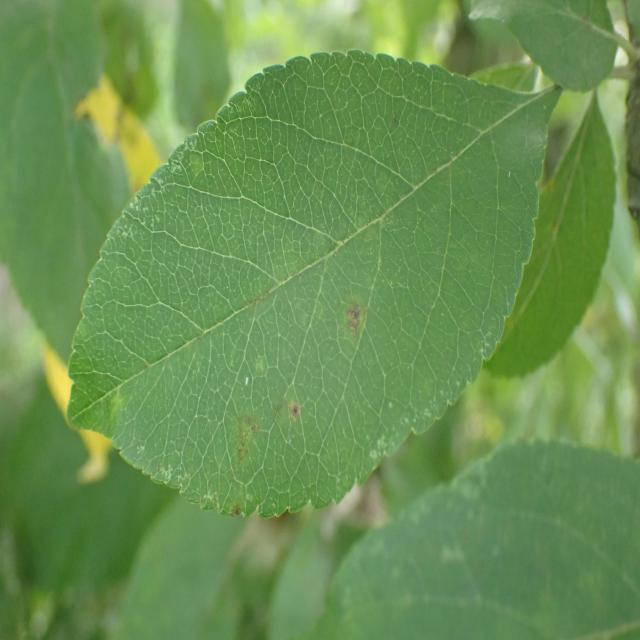scab: (132, 175, 421, 494)
